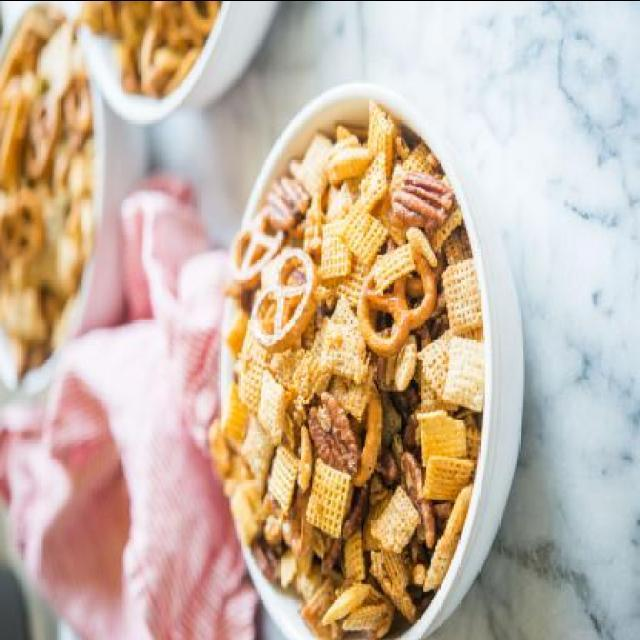Salatini packaged: (223, 118, 479, 614)
